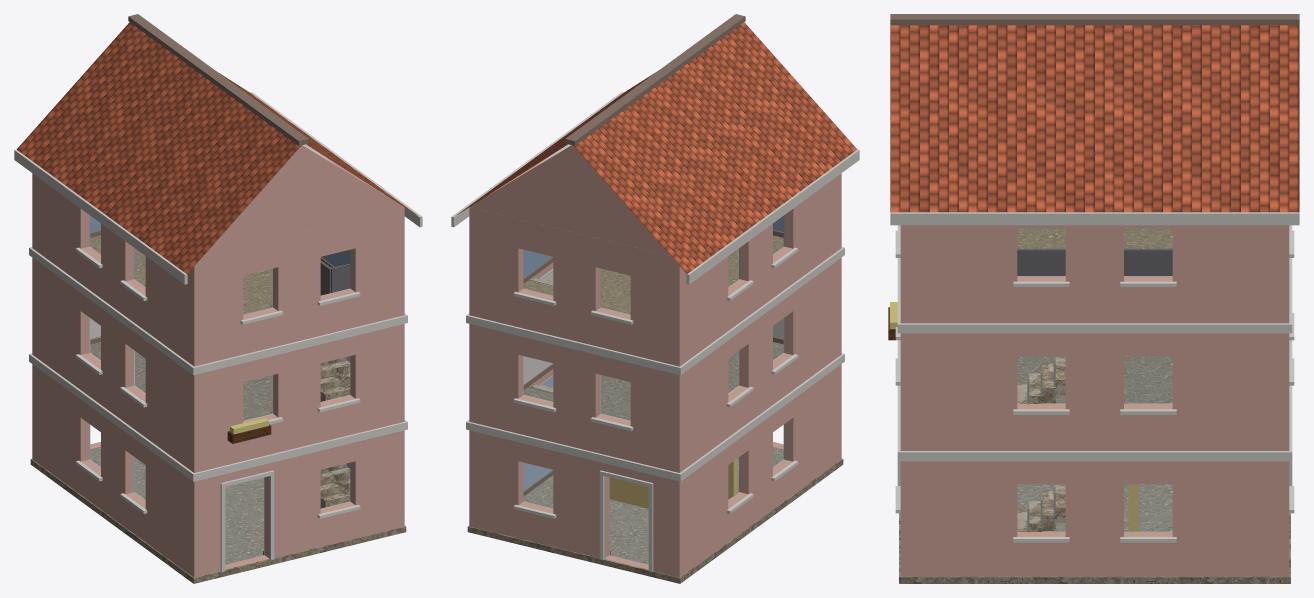
Rendered from cove-house-salmon.windows-v1.lod0.glb.
3 views of the same model, side by side, from view 1: azimuth 30°, elevation 25°; view 2: azimuth 150°, elevation 25°; view 3: azimuth 270°, elevation 25° (orthographic). The views are drawn at different scales.
Parts seen in each view (by area): view 1: cove-house-salmon; view 2: cove-house-salmon; view 3: cove-house-salmon.
Part boxes in pixels (left/top/right/bottom): cove-house-salmon: left=14, top=14, right=422, bottom=583; cove-house-salmon: left=451, top=14, right=859, bottom=583; cove-house-salmon: left=888, top=14, right=1299, bottom=583.
Bounding box in the file's own units: 6.78 × 11.47 × 8.46.
5 materials, 4 textured.
